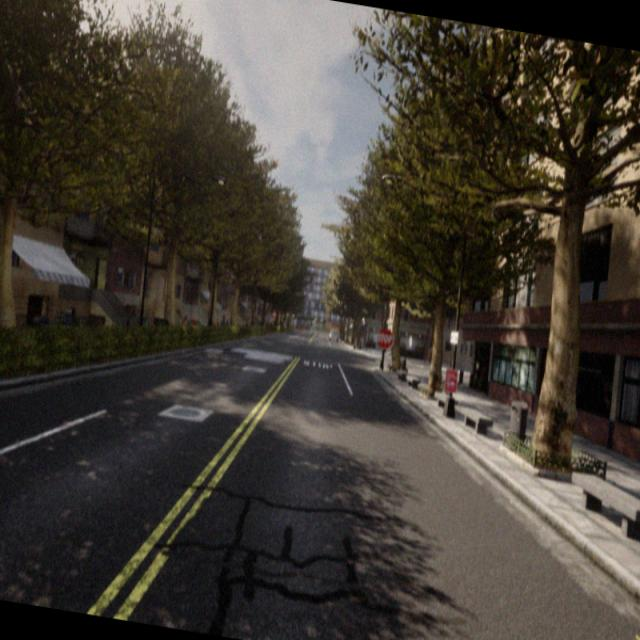stop sign: (374, 322, 395, 371), (376, 326, 394, 350)
